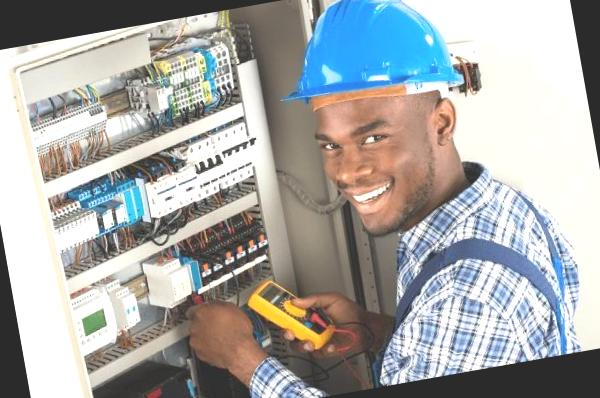helmet: (257, 0, 470, 128)
no_vest: (346, 164, 588, 385)
person: (262, 0, 595, 395)
